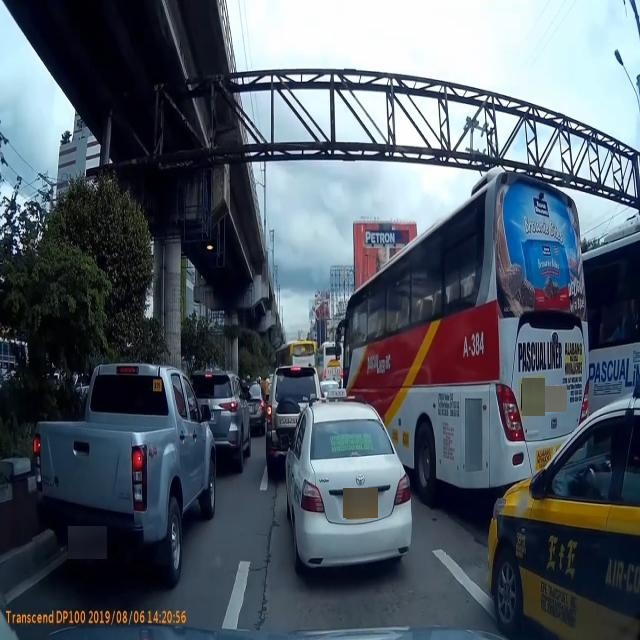bus: (350, 209, 580, 484), (319, 339, 349, 394)
car: (23, 344, 233, 585), (489, 410, 640, 637), (282, 393, 411, 587), (195, 375, 261, 474), (272, 367, 322, 478)
